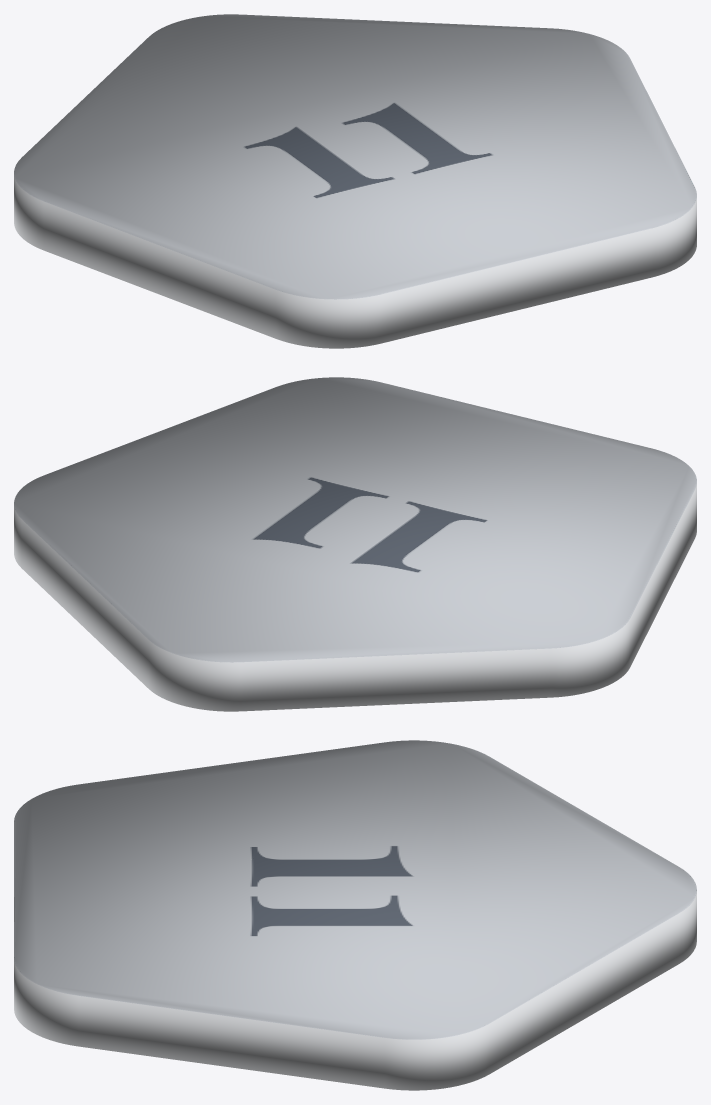
File: pen_11.glb
The picture shows the model from 3 angles, top to bottom: view 1: azimuth 30°, elevation 25°; view 2: azimuth 150°, elevation 25°; view 3: azimuth 270°, elevation 25°; orthographic projection. The views are drawn at different scales.
Parts seen in each view (by area): view 1: pen_11; view 2: pen_11; view 3: pen_11.
Boxes of the visible parts, <box> form: pen_11: <box>14,14,696,348</box>; pen_11: <box>14,377,696,711</box>; pen_11: <box>14,740,696,1090</box>.
Bounding box in the file's own units: 0.0304 × 0.0024 × 0.0293.
Materials: 2 (1 with a texture image).
